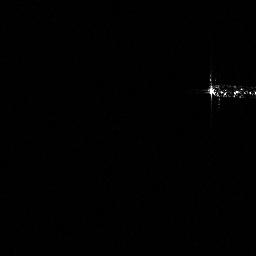ship: (202, 71, 256, 100)
